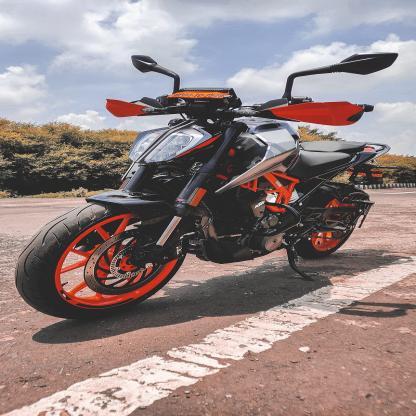bike: (17, 49, 371, 310)
